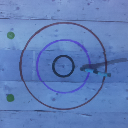Axe Tip: (84, 66, 96, 69)
